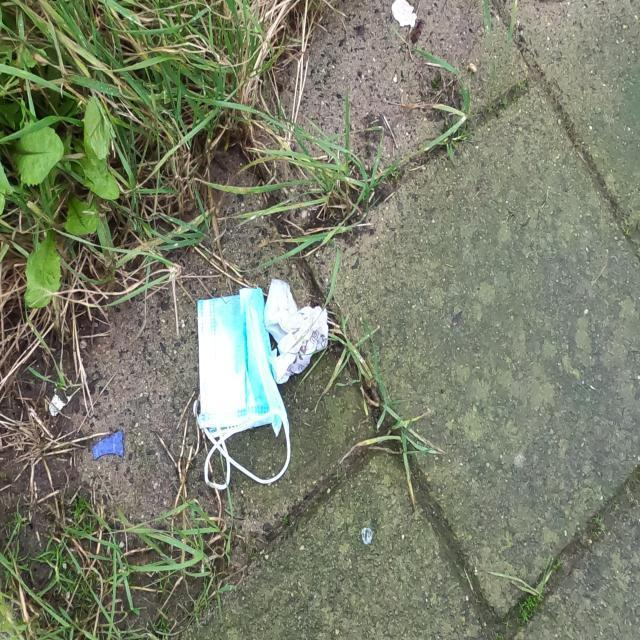Mask: (192, 286, 291, 492)
Paper: (263, 276, 330, 386)
